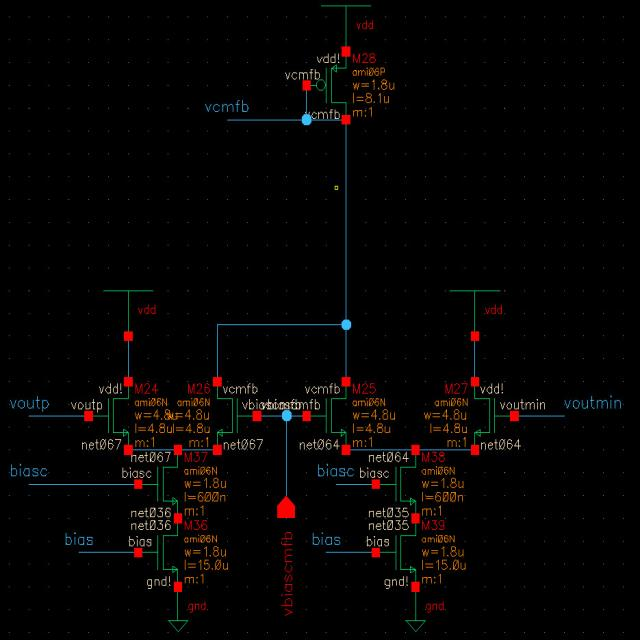nmos: (372, 512, 423, 590), (134, 514, 182, 596), (134, 444, 183, 524), (372, 446, 422, 524), (212, 377, 261, 456), (84, 377, 134, 454), (304, 378, 352, 454), (471, 378, 518, 454)
pmos: (301, 48, 352, 124)
